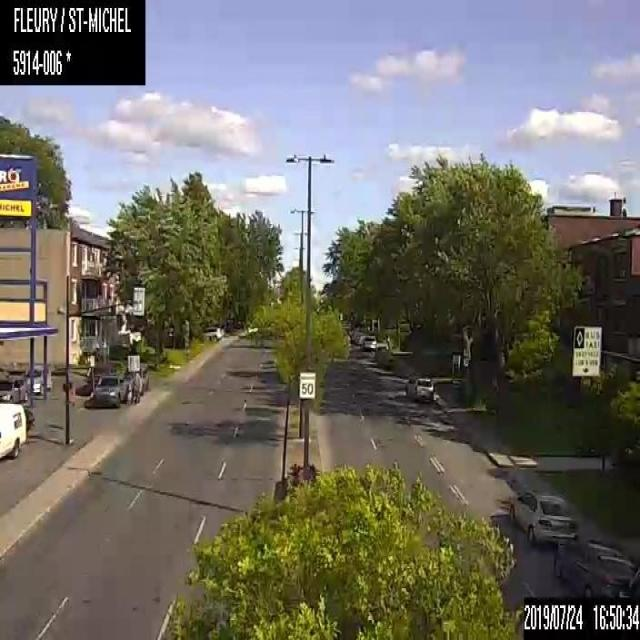pedestrian: (135, 371, 142, 404)
vehicle: (552, 530, 638, 598), (508, 488, 580, 544), (0, 399, 28, 465), (86, 373, 129, 407), (23, 362, 52, 399), (0, 374, 29, 402), (404, 372, 434, 399), (85, 362, 116, 386), (124, 362, 148, 390), (202, 322, 224, 342), (372, 340, 391, 358), (360, 332, 376, 349)
